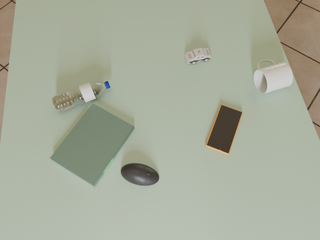book: (50, 104, 134, 186)
bottle: (52, 81, 110, 112)
cup: (254, 60, 293, 93)
mouse: (121, 163, 159, 186)
phone: (206, 105, 243, 155)
toy_car: (185, 48, 212, 64)
